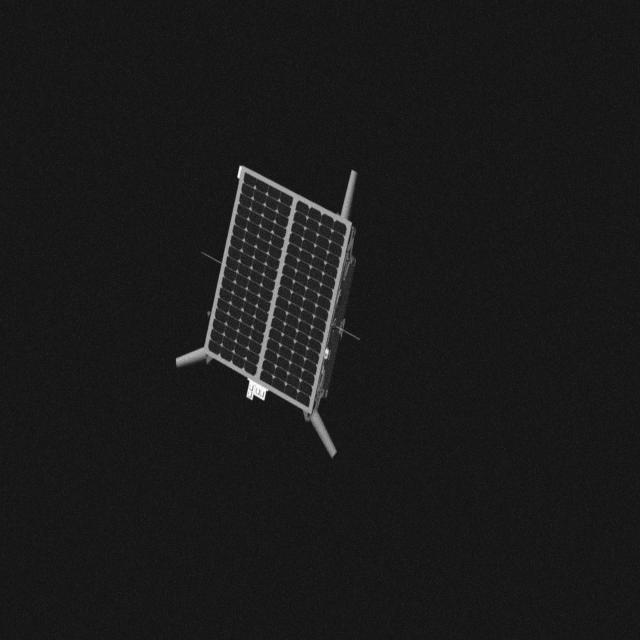medium_debris: (166, 162, 366, 466)
